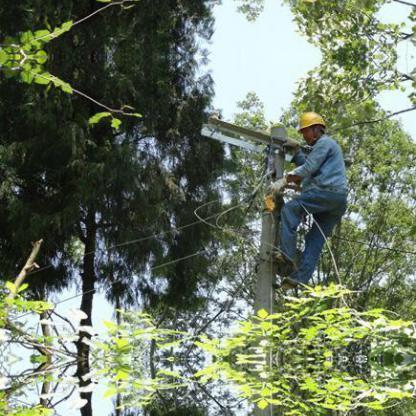helmet: (295, 111, 328, 137)
